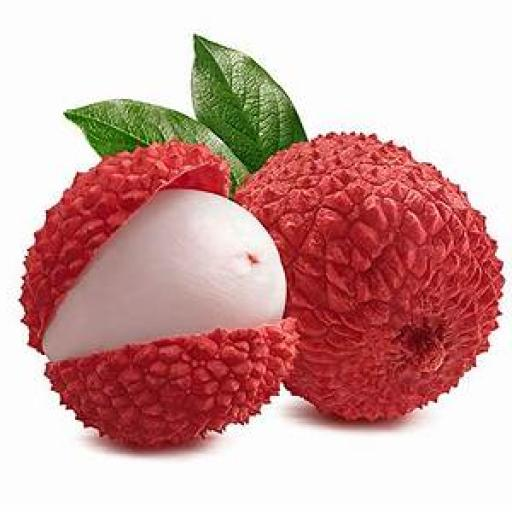lychee: (22, 142, 295, 445), (237, 134, 502, 419)
